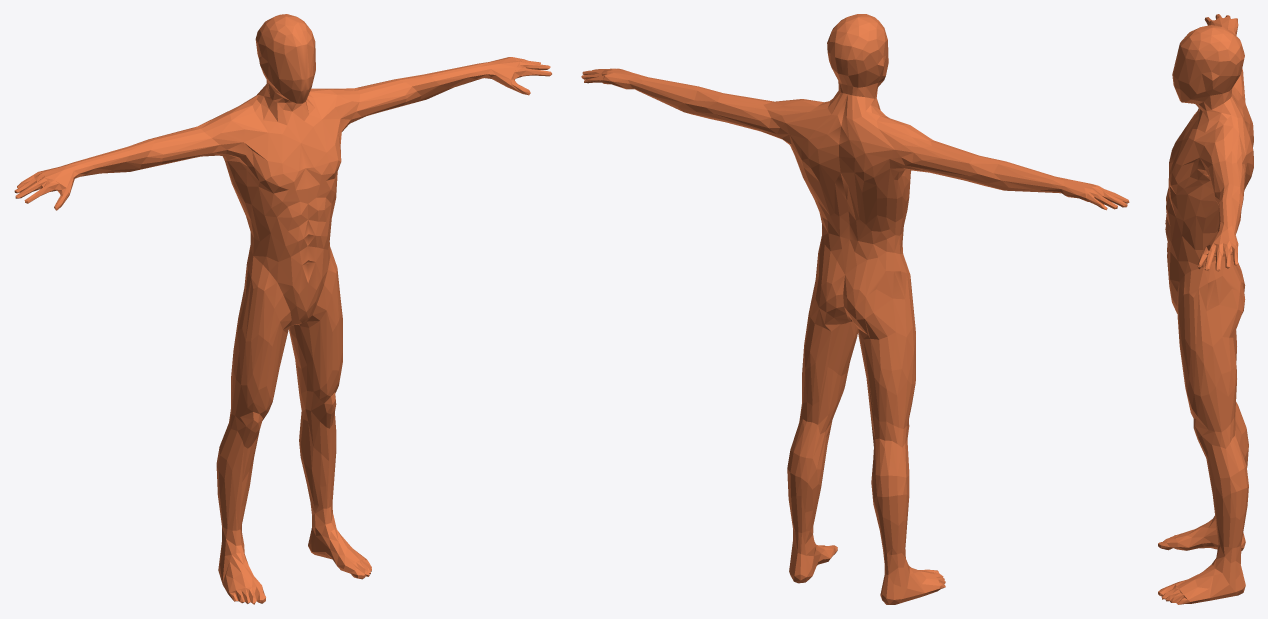
File: Personagem.fbx
The picture shows the model from 3 angles, left to right: view 1: azimuth 30°, elevation 25°; view 2: azimuth 150°, elevation 25°; view 3: azimuth 270°, elevation 25°; orthographic projection. The views are drawn at different scales.
Parts seen in each view (by area): view 1: Personagem; view 2: Personagem; view 3: Personagem.
Part boxes in pixels (x1,y1,x2,y2): Personagem: (14,14,551,604); Personagem: (581,14,1129,604); Personagem: (1158,14,1253,604).
Size of the model in its own units: 178 by 177 by 28.2.
